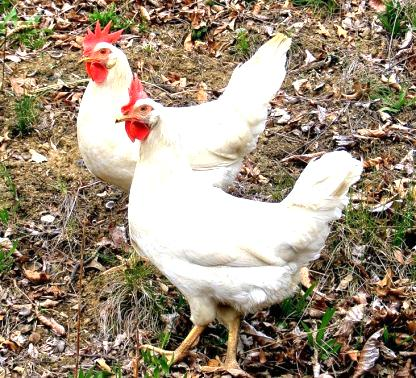Healthy: (108, 70, 366, 376)
